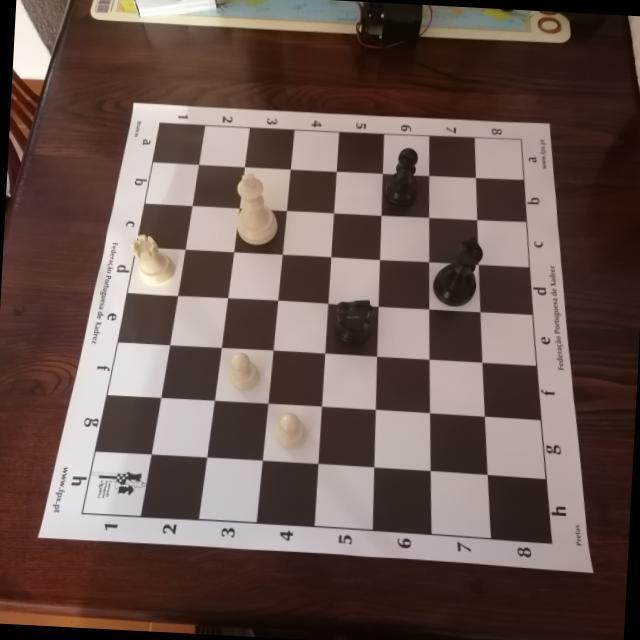black-bishop: (382, 146, 422, 210)
black-king: (430, 231, 485, 308)
black-knight: (331, 297, 376, 349)
white-king: (234, 171, 282, 247)
white-pawn: (273, 410, 311, 452), (226, 350, 261, 393)
white-rook: (128, 232, 180, 289)
